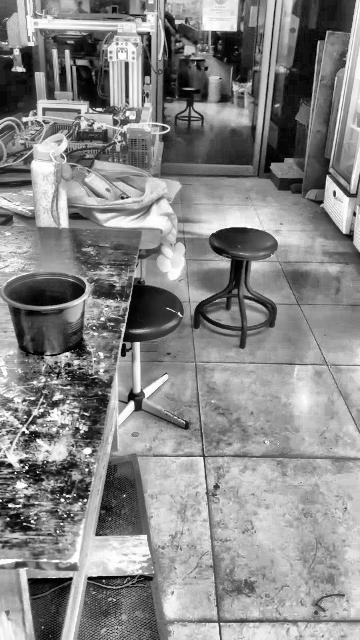pot: (0, 271, 88, 355)
